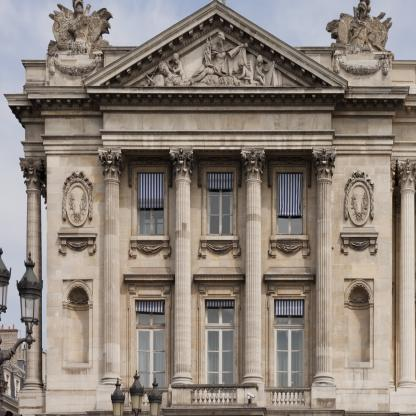Balcony: (171, 384, 259, 409), (264, 387, 312, 411), (121, 388, 169, 411)
Building Outline: (3, 0, 416, 416)
Cornice: (82, 0, 348, 93), (262, 267, 315, 281), (193, 267, 245, 281), (122, 267, 175, 280)
Deco: (99, 13, 333, 86), (325, 0, 395, 86), (45, 0, 113, 86), (62, 279, 93, 368), (344, 279, 374, 368), (62, 169, 93, 226), (344, 169, 375, 225)
Door: (274, 326, 305, 405), (135, 326, 165, 406), (205, 326, 234, 405)
Facade: (46, 106, 393, 416)
Floor: (47, 267, 390, 407)
Floor Slab: (47, 258, 390, 267), (46, 407, 390, 415)
Molding: (8, 92, 406, 118)
Pillar: (96, 146, 130, 410), (237, 147, 266, 407), (168, 147, 197, 407), (18, 157, 45, 414), (311, 147, 337, 409), (390, 158, 416, 412)
Sill: (56, 226, 98, 256), (340, 226, 379, 255), (270, 235, 310, 258), (200, 236, 239, 259), (130, 236, 170, 258)
Top Floor: (47, 110, 390, 267)
Window: (277, 171, 304, 235), (137, 172, 164, 235), (207, 172, 233, 236), (274, 299, 305, 326), (135, 299, 165, 326), (206, 299, 235, 326)
dont: (10, 251, 43, 355), (129, 369, 144, 416), (148, 377, 162, 416), (111, 377, 125, 415)
